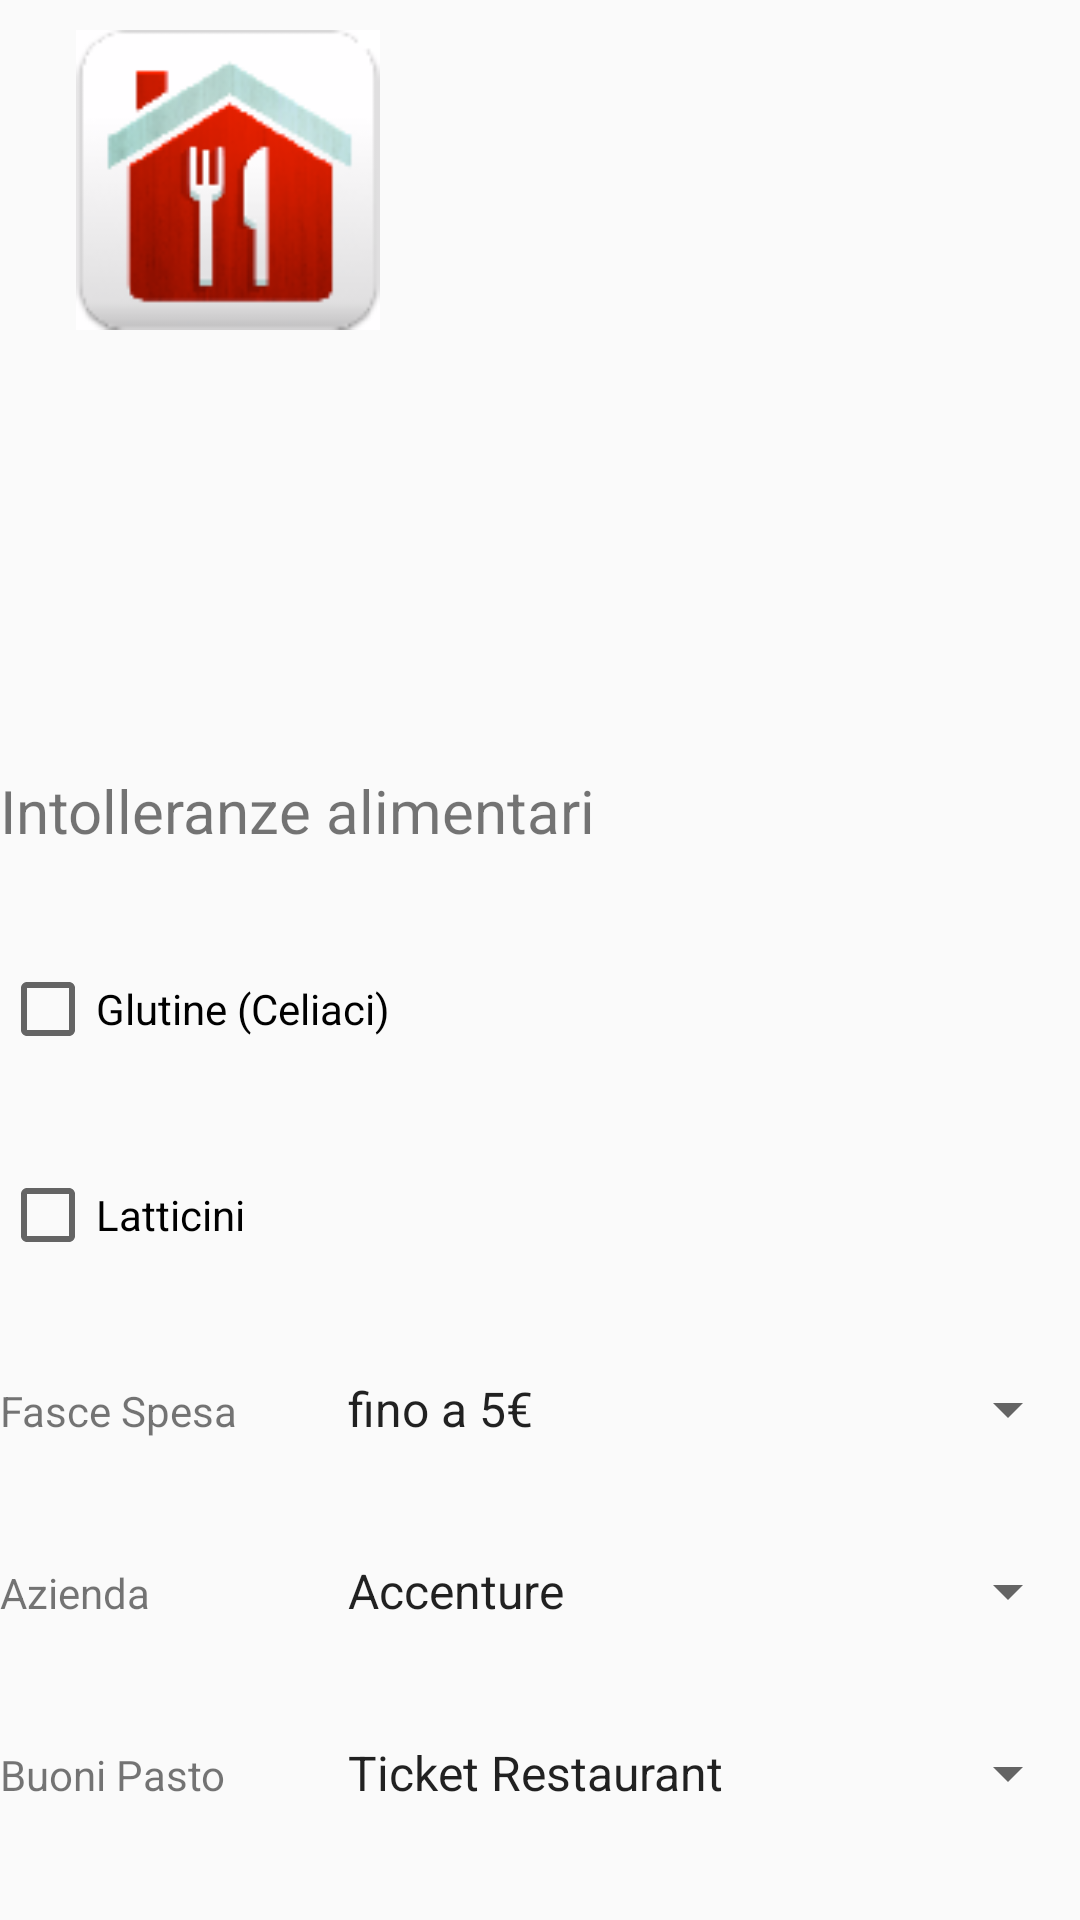

Where icons sit on this 1080 x 1920 app screen, as bbox(x1, y1, x2, y2):
Item Icon: bbox(79, 30, 380, 330)
